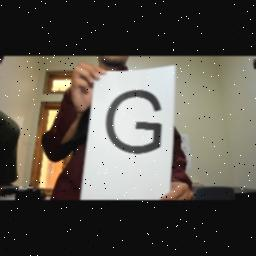g: (104, 86, 168, 166)
